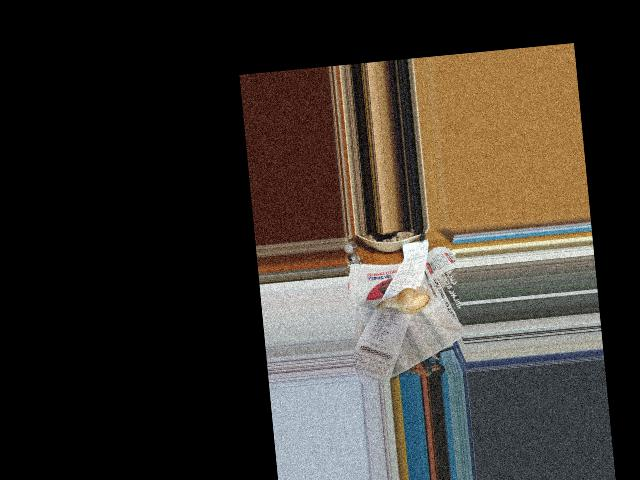onion: (382, 286, 431, 317)
